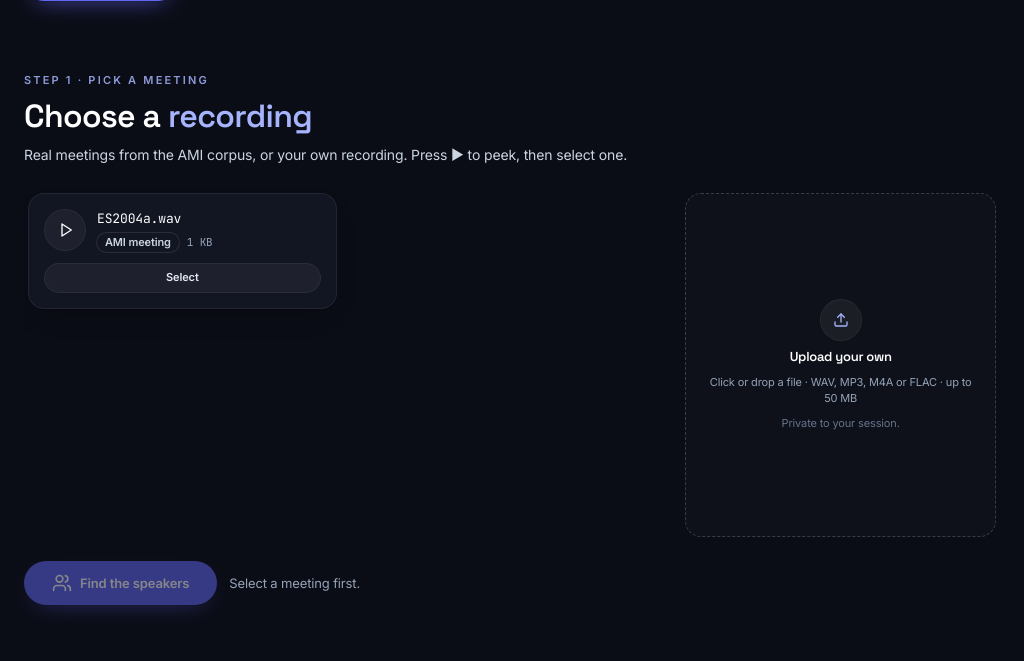
Test case: DiarizationPage — projection failure › still shows the timeline when /projection fails
(page scrolled)
Expected: the text "ES2004a.wav" is shown, [97,210,181,227]
Click the button "Select": [182, 278] box [45,264,320,292]
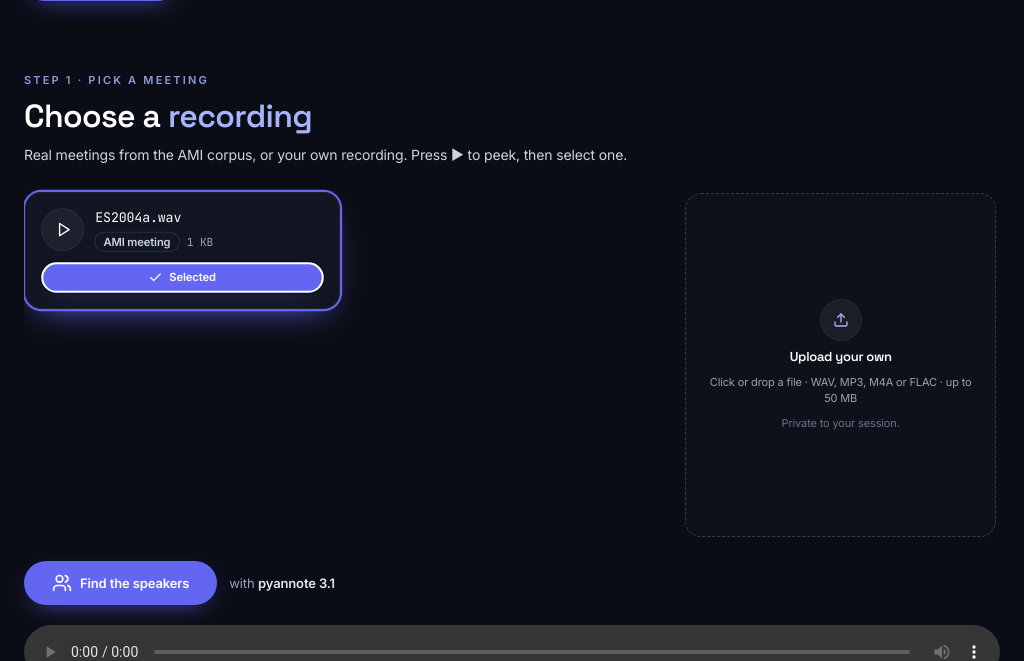
Click the button "Find the speakers": [121, 583] box [24,561,217,605]
(page scrolled)
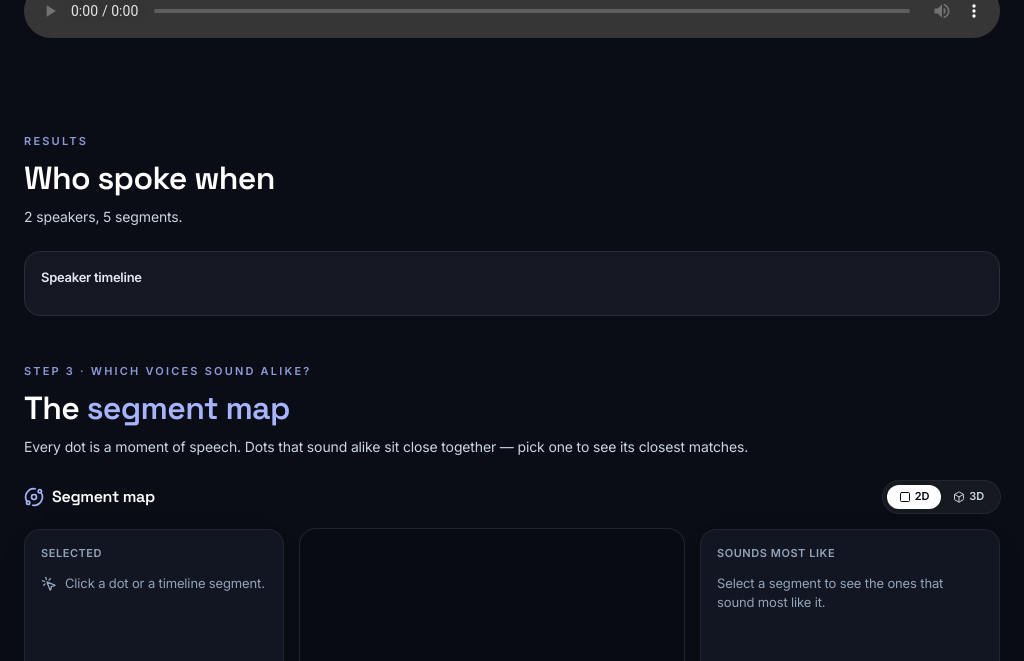
Result: the heading "Speaker timeline" is shown at [41,269,142,285]
